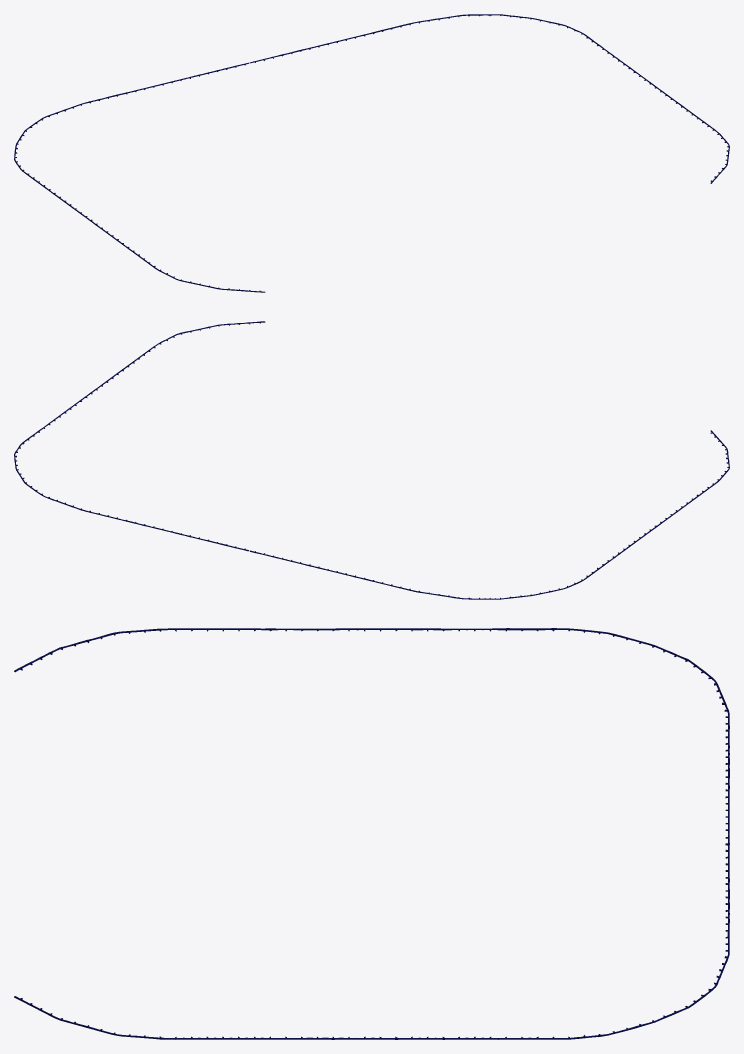
Rendered from FloodLights_WallsFloodLightsRailing.FBX.
The picture shows the model from 3 angles, top to bottom: view 1: azimuth 30°, elevation 25°; view 2: azimuth 150°, elevation 25°; view 3: azimuth 270°, elevation 25°; orthographic projection. The views are drawn at different scales.
Visible parts, largest first — view 1: FloodLights_WallsFloodLightsRailing; view 2: FloodLights_WallsFloodLightsRailing; view 3: FloodLights_WallsFloodLightsRailing.
Boxes of the visible parts, x1,y1,x2,y2 form: FloodLights_WallsFloodLightsRailing: (14, 14, 729, 292); FloodLights_WallsFloodLightsRailing: (14, 321, 729, 599); FloodLights_WallsFloodLightsRailing: (14, 628, 729, 1039).
Bounding box in the file's own units: 24575 × 18117 × 68.62.
